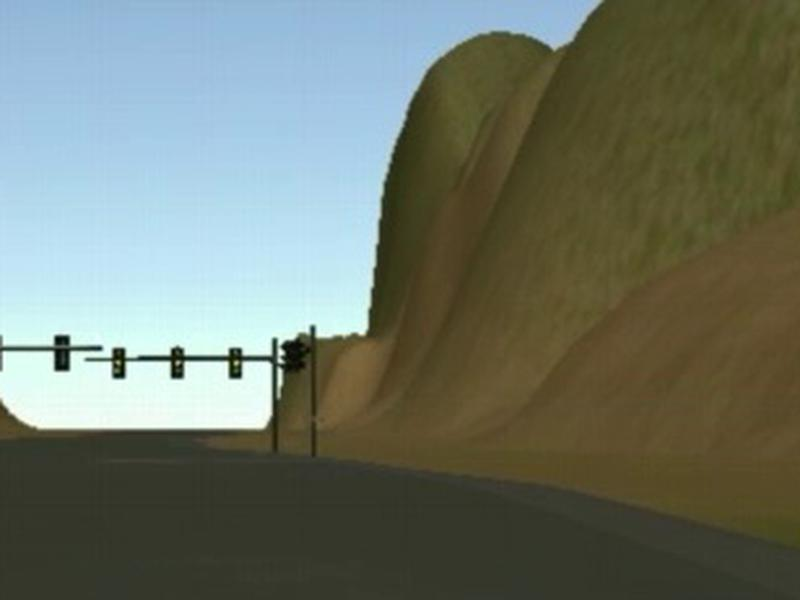Yellow: (111, 347, 125, 380), (170, 347, 183, 378), (228, 347, 241, 378)
